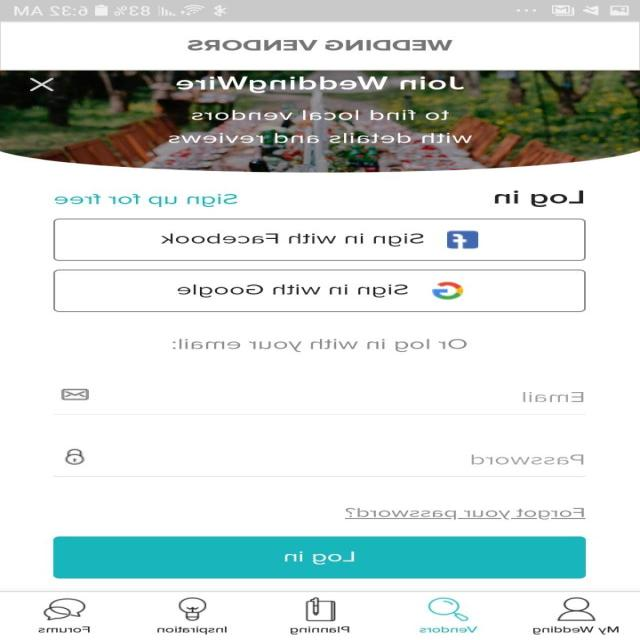EditText: (53, 449, 586, 477), (53, 388, 587, 415)
Icon: (428, 597, 469, 621), (556, 596, 596, 620), (44, 598, 86, 620), (306, 597, 337, 621), (61, 388, 90, 401), (66, 448, 86, 465), (30, 78, 54, 91)
Image: (1, 70, 640, 172), (178, 596, 208, 620)
Text: (176, 76, 465, 93), (172, 338, 468, 352), (169, 132, 473, 144), (187, 40, 453, 51), (345, 507, 587, 519), (192, 110, 450, 120), (54, 193, 238, 207), (494, 190, 583, 207), (471, 454, 584, 464), (534, 626, 620, 634), (522, 391, 584, 402), (158, 626, 228, 634), (290, 626, 350, 634), (38, 625, 91, 633), (420, 626, 478, 633)
TextButton: (53, 218, 586, 261), (53, 269, 586, 312), (54, 536, 587, 579)
